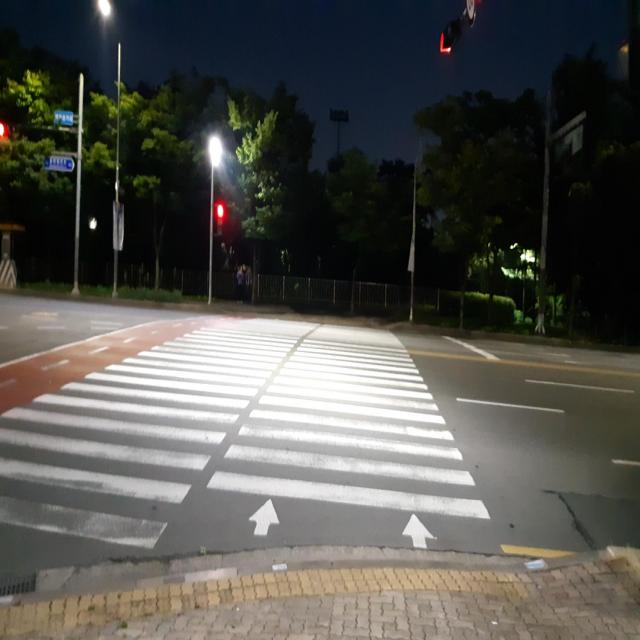횡단보도: (0, 316, 495, 554)
